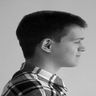ear: (39, 35, 57, 58)
